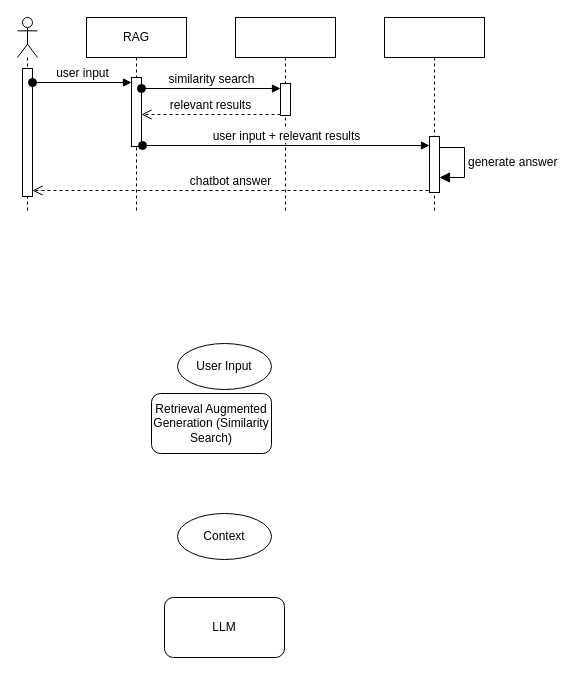
Image size: 575x675. Some labels were removed from this diagram. The centre of each missing label's shape, as x and y in pixels:
LLM Chatbot: the point at 434,114
Vector Database: the point at 285,114
